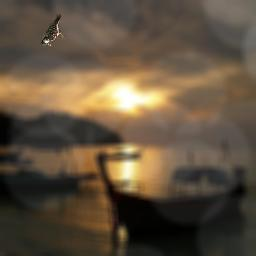Woodpecker: (41, 14, 65, 46)
